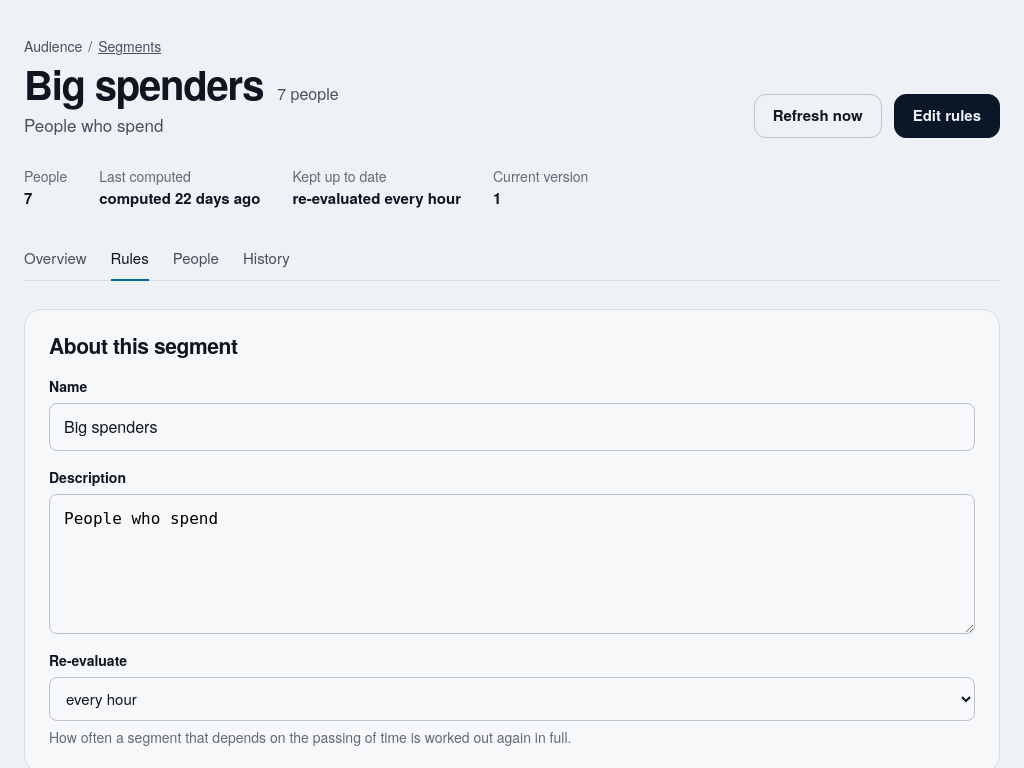
Test: saving a segment › is clean after a rename with spaces around the name
Replace the text in the field labelled "Name" with "  Renamed  " at (512, 426), box left=49, top=402, right=975, bottom=450
(page scrolled)
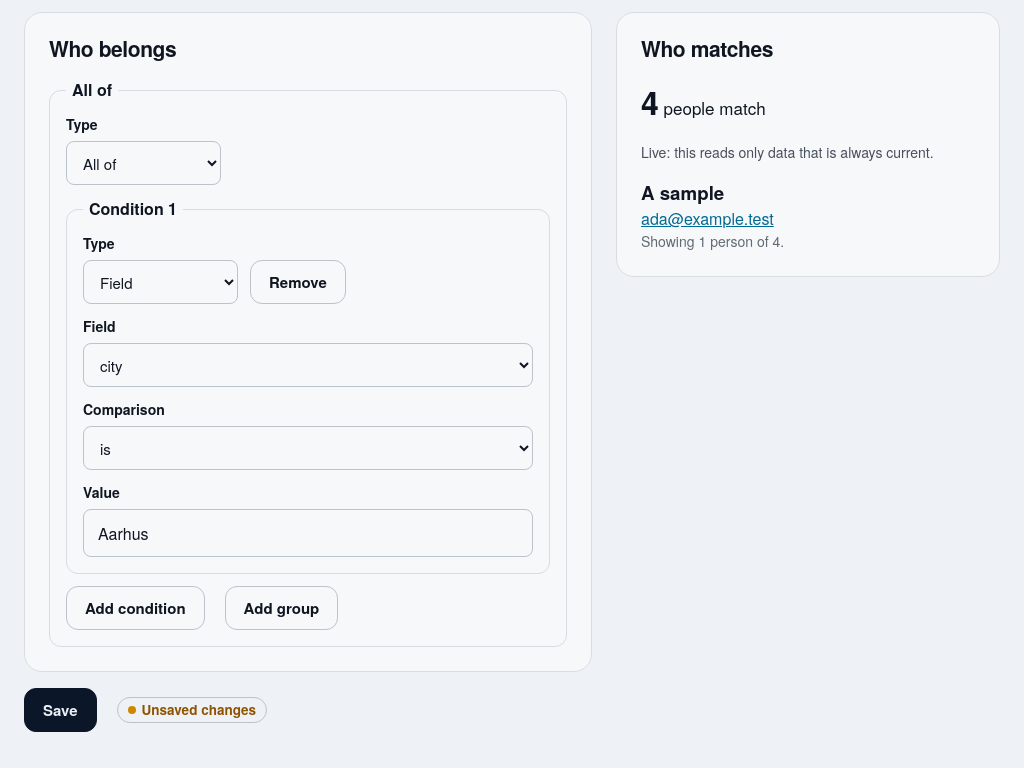
Click the button "Save" at (60, 710), box left=24, top=688, right=96, bottom=732
(page scrolled)
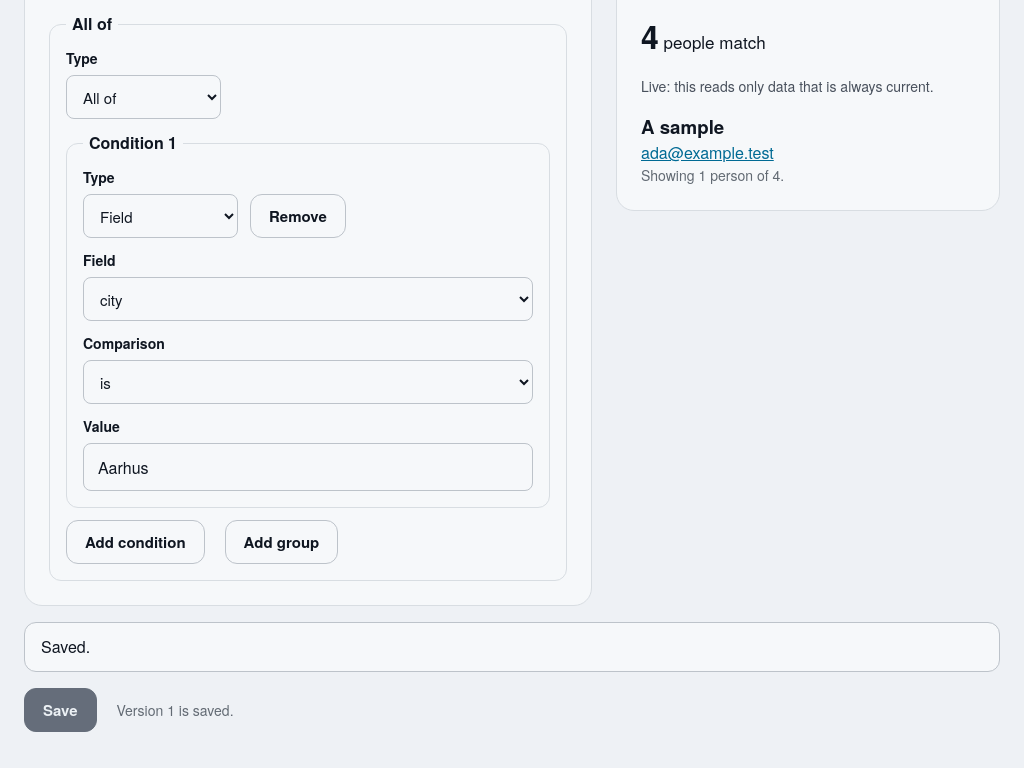
Check: the text "Saved." is shown, box left=24, top=622, right=1000, bottom=672
Check: the text "Unsaved changes" is gone
Check: the button "Save" is disabled, box left=24, top=688, right=96, bottom=732
